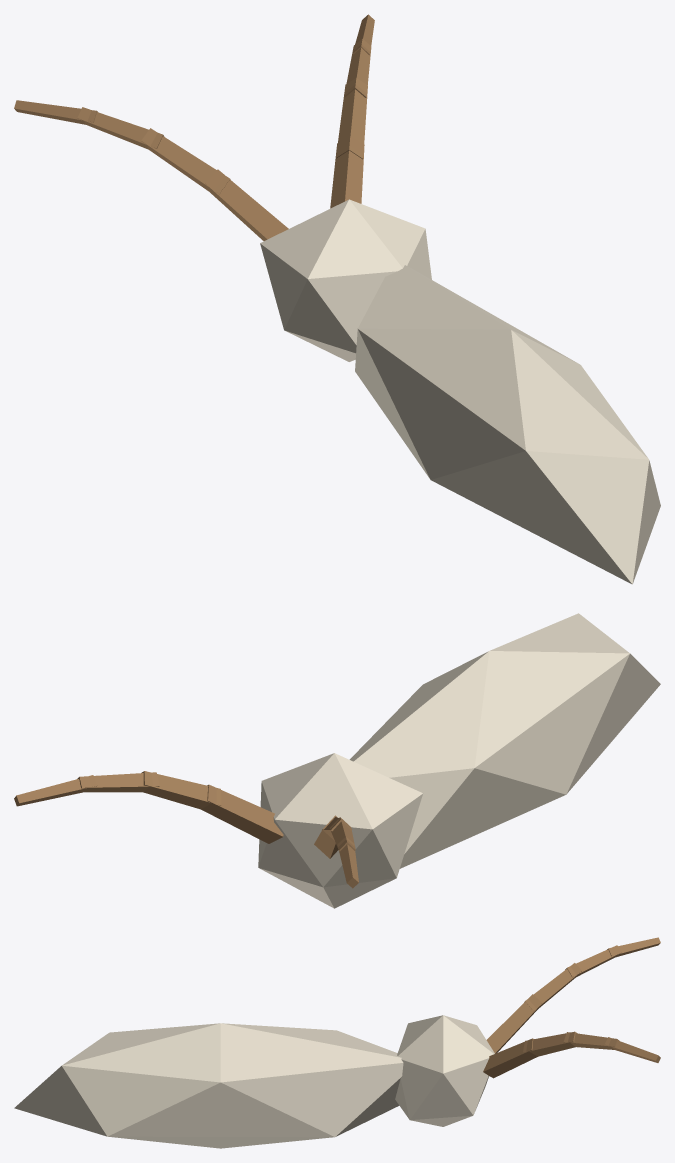
The model's file is moth_body.glb.
The picture shows the model from 3 angles, top to bottom: view 1: azimuth 30°, elevation 25°; view 2: azimuth 150°, elevation 25°; view 3: azimuth 270°, elevation 25°; orthographic projection. The views are drawn at different scales.
Visible parts, largest first — view 1: model; view 2: model; view 3: model.
Part boxes in pixels (x1,y1,x2,y2): model: (14,14,660,584); model: (14,613,660,908); model: (14,937,660,1148).
Bounding box in the file's own units: 0.0463 × 0.028 × 0.1047.
